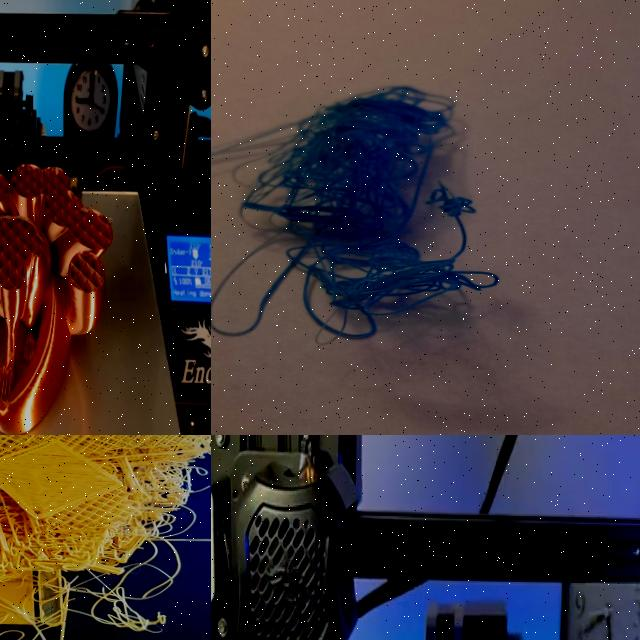spaghetti: (211, 80, 515, 355), (36, 435, 211, 640), (0, 597, 211, 640)
